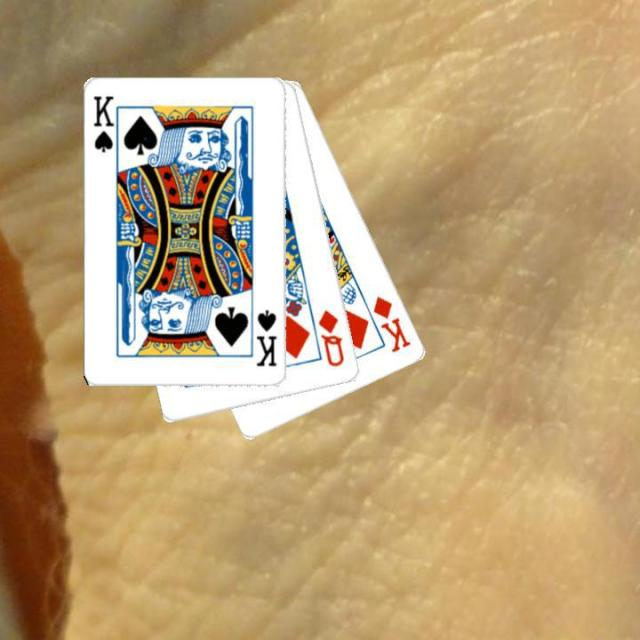KD: (369, 292, 413, 354)
KS: (90, 92, 122, 160), (253, 306, 279, 369)
QD: (314, 306, 346, 369)
